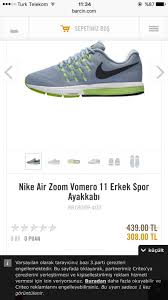nike: (95, 58, 140, 81)
